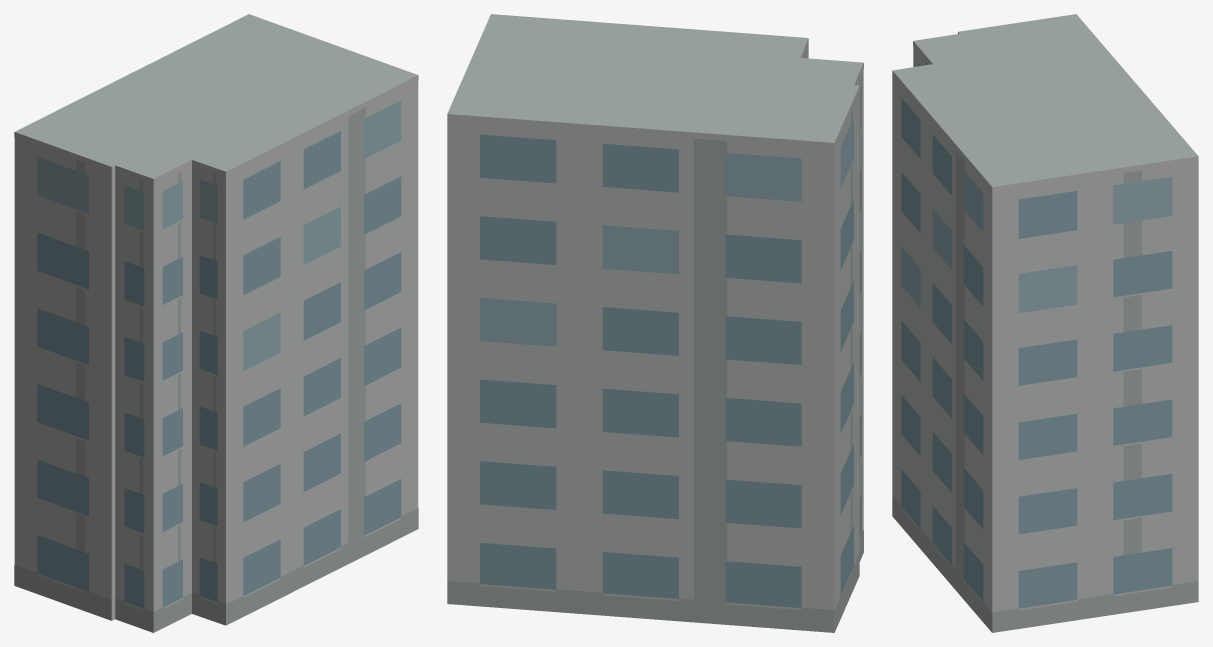
The model's file is survey-upis-32814599.glb.
The picture shows the model from 3 angles, left to right: view 1: azimuth 30°, elevation 25°; view 2: azimuth 150°, elevation 25°; view 3: azimuth 270°, elevation 25°; orthographic projection. The views are drawn at different scales.
Visible parts, largest first — view 1: survey-upis-32814599.tmp; view 2: survey-upis-32814599.tmp; view 3: survey-upis-32814599.tmp.
Boxes of the visible parts, x1,y1,x2,y2 form: survey-upis-32814599.tmp: (14,14,418,632); survey-upis-32814599.tmp: (447,14,863,632); survey-upis-32814599.tmp: (892,14,1198,632).
Bounding box in the file's own units: 16.16 × 19.4 × 12.08.
